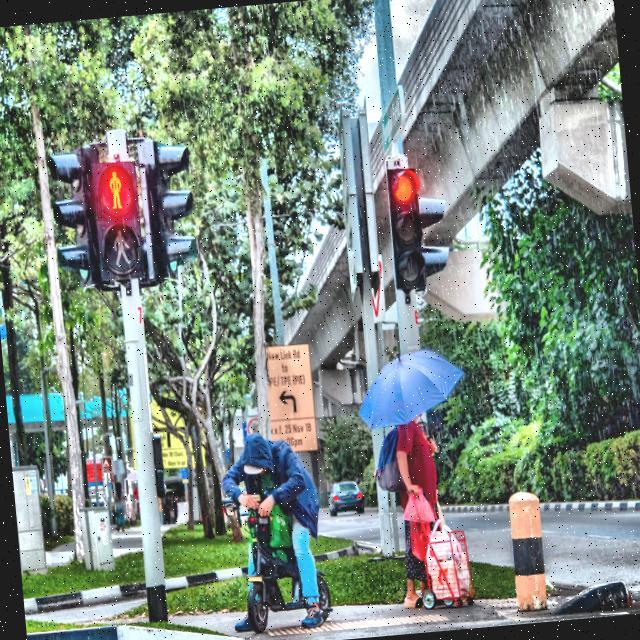red_light: (106, 168, 125, 212)
